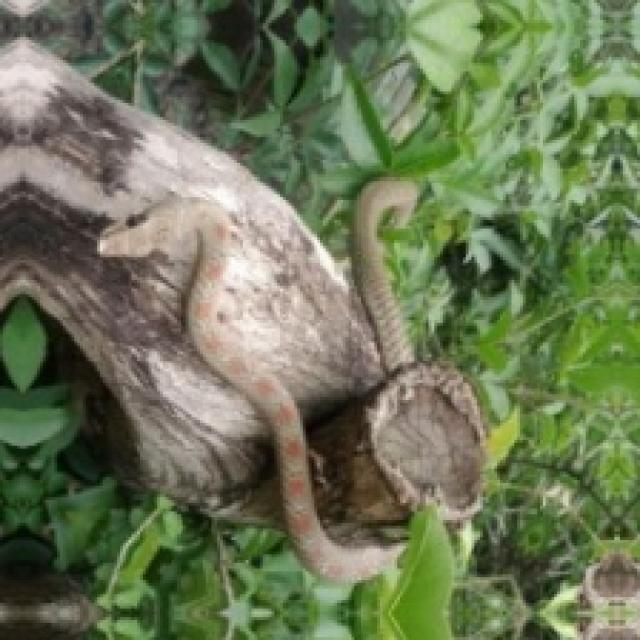paradise tree snake: (0, 40, 483, 580)
